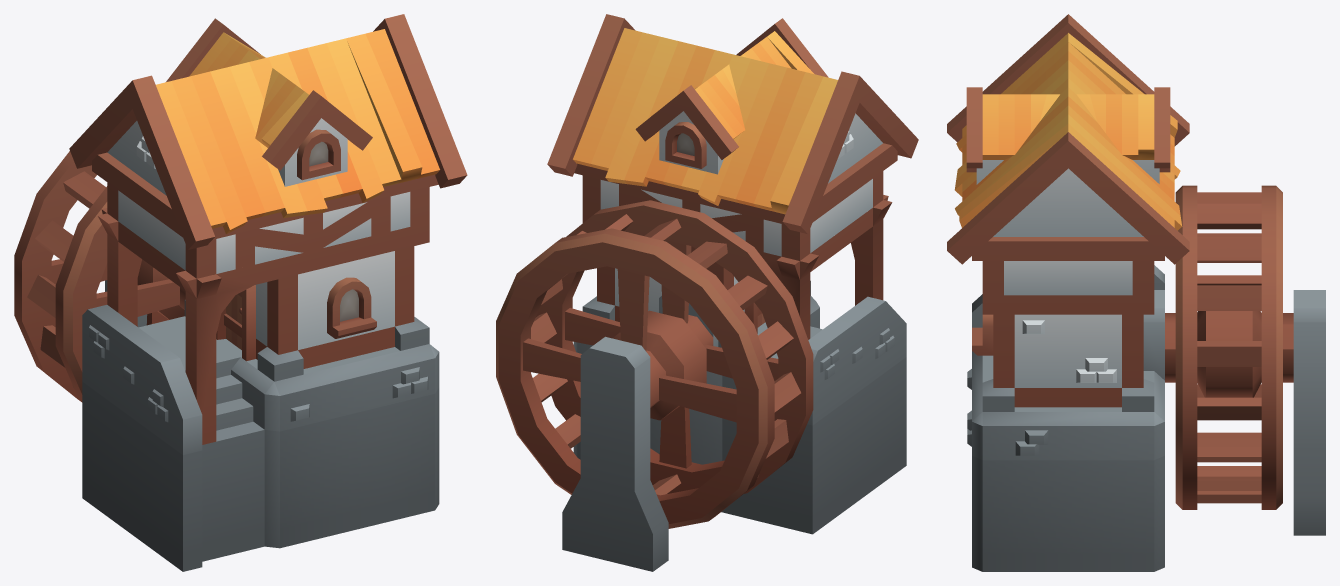
The model's file is building_watermill_yellow.glb.
3 views of the same model, side by side, from view 1: azimuth 30°, elevation 25°; view 2: azimuth 150°, elevation 25°; view 3: azimuth 270°, elevation 25° (orthographic). The views are drawn at different scales.
Parts seen in each view (by area): view 1: building_watermill_yellow, building_watermill_wheel_yellow; view 2: building_watermill_yellow, building_watermill_wheel_yellow; view 3: building_watermill_yellow, building_watermill_wheel_yellow.
Part boxes in pixels (x1=…): building_watermill_yellow: x1=69, y1=14, x2=467, y2=571; building_watermill_wheel_yellow: x1=14, y1=151, x2=185, y2=402; building_watermill_yellow: x1=547, y1=14, x2=918, y2=571; building_watermill_wheel_yellow: x1=496, y1=200, x2=813, y2=528; building_watermill_yellow: x1=947, y1=14, x2=1325, y2=571; building_watermill_wheel_yellow: x1=1165, y1=185, x2=1293, y2=509.
Size of the model in its own units: 1.05 by 1.57 by 1.24.
Materials: 1 (1 with a texture image).
